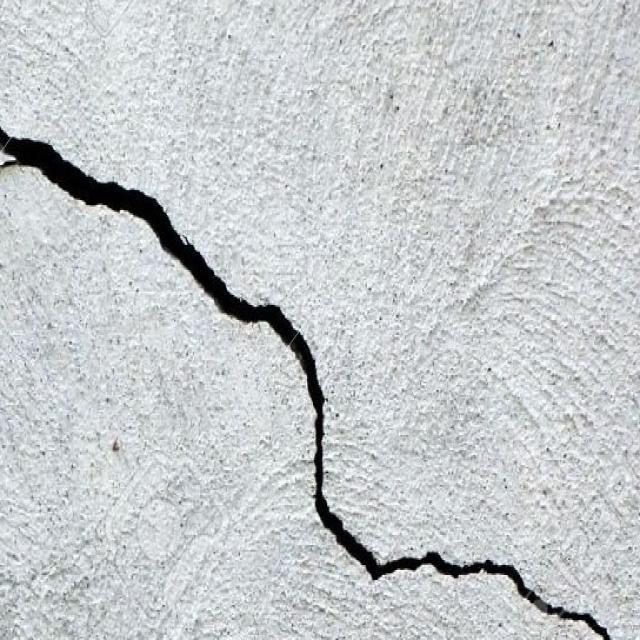Diagonal: (6, 122, 241, 324), (250, 297, 374, 584)
Transverse: (386, 552, 607, 640)
